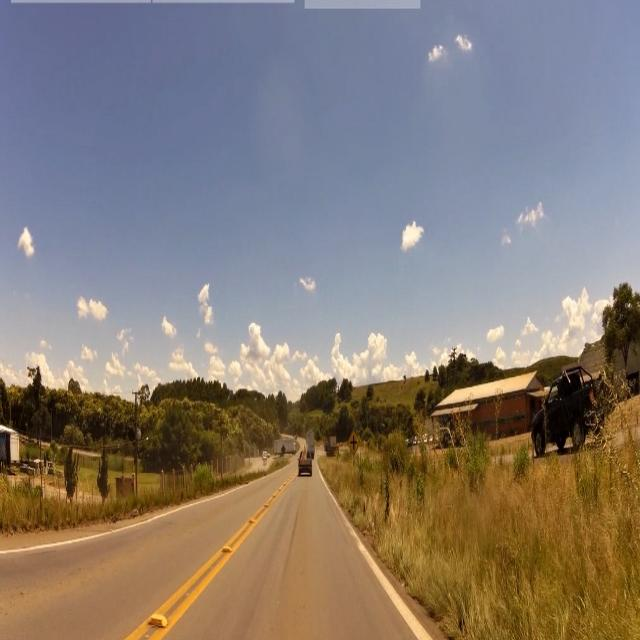A-6: (347, 428, 359, 457)
